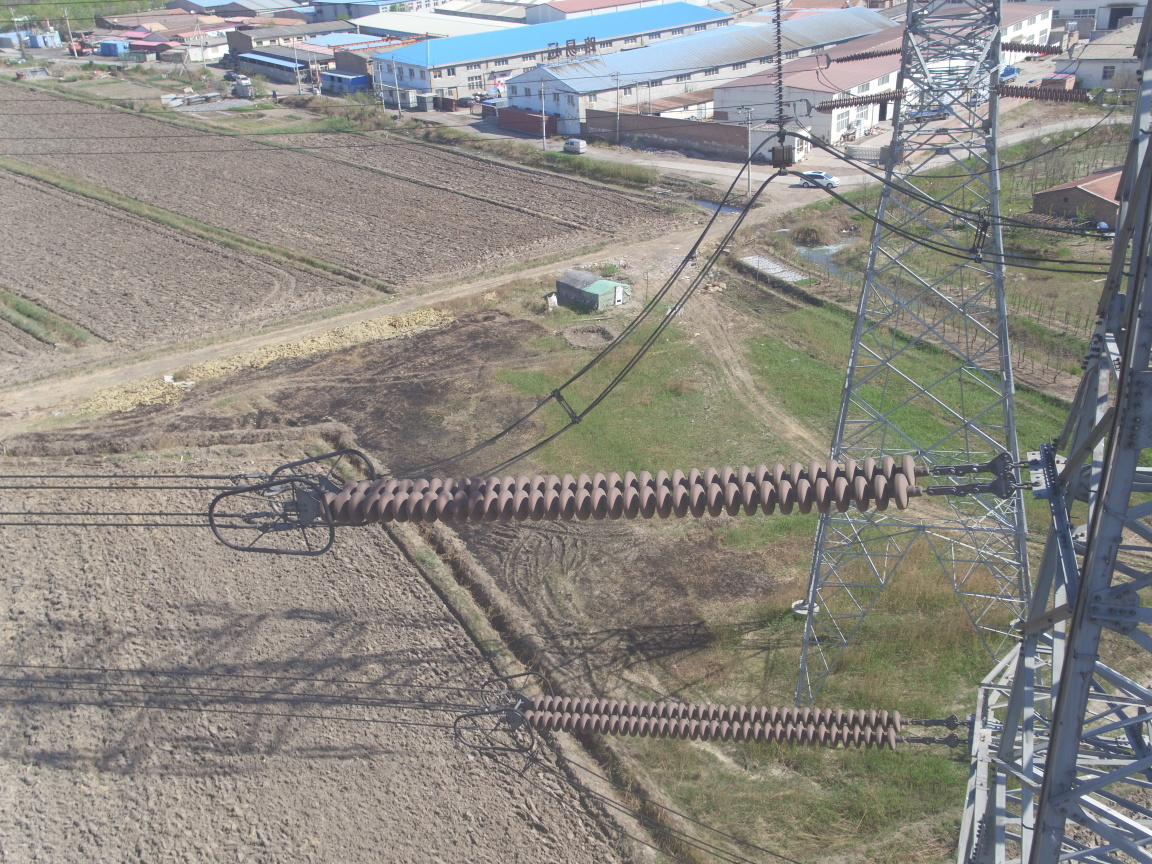insulator: (316, 452, 961, 525), (519, 687, 928, 751)
